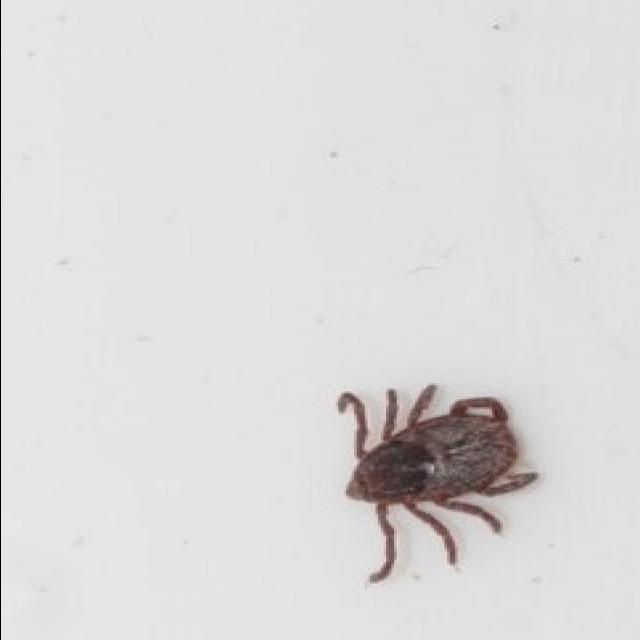Rhipicephalus Sanguineus-F: (337, 385, 539, 586)
